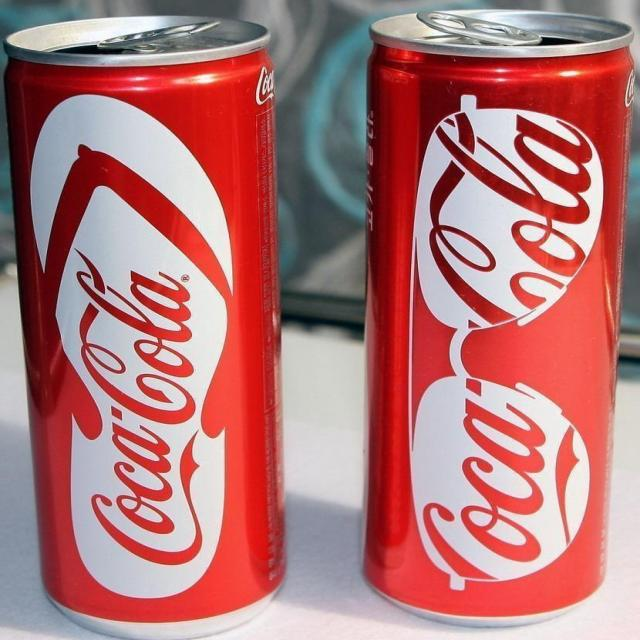tin can: (2, 12, 288, 639), (361, 6, 638, 634)
